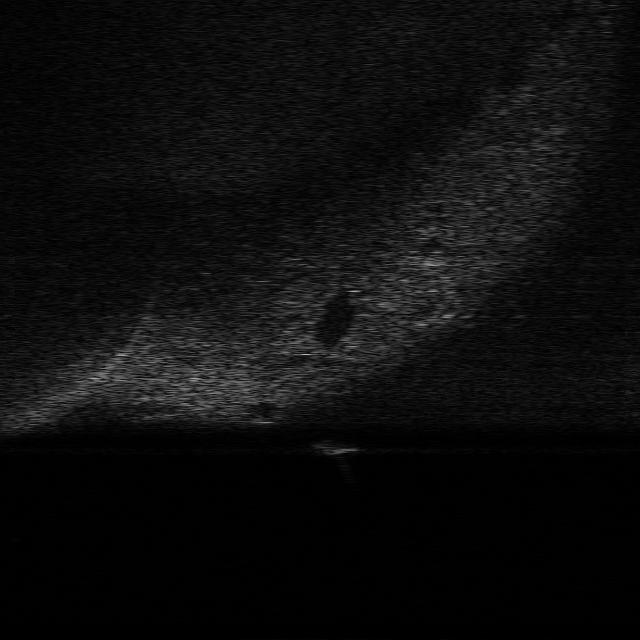cube: (308, 437, 362, 460)
